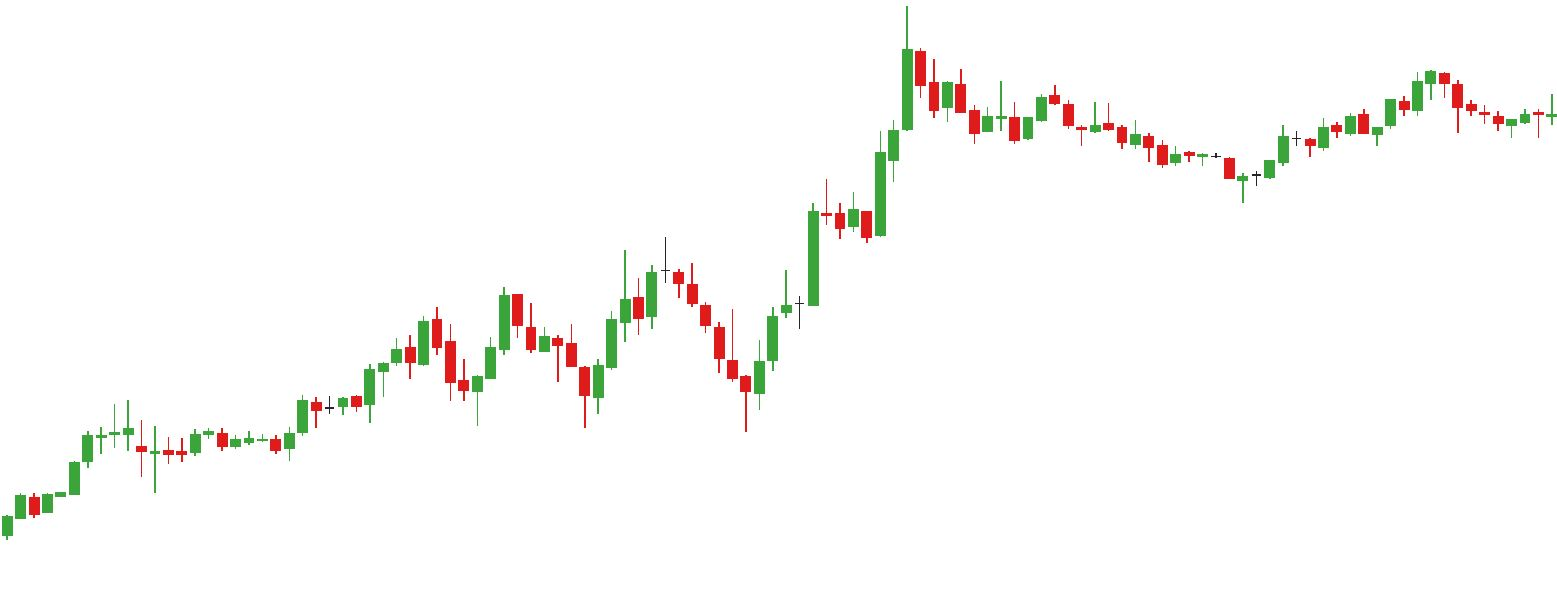buy: (470, 341, 606, 436)
